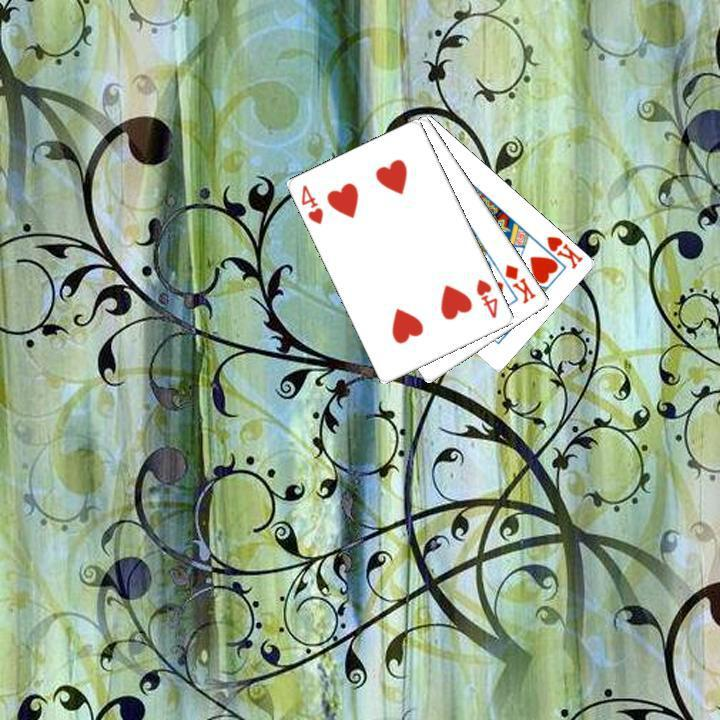4: (297, 181, 326, 226), (472, 275, 500, 320)
K: (542, 231, 585, 271), (501, 260, 538, 306)
